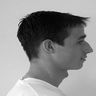ear: (38, 34, 62, 59)
